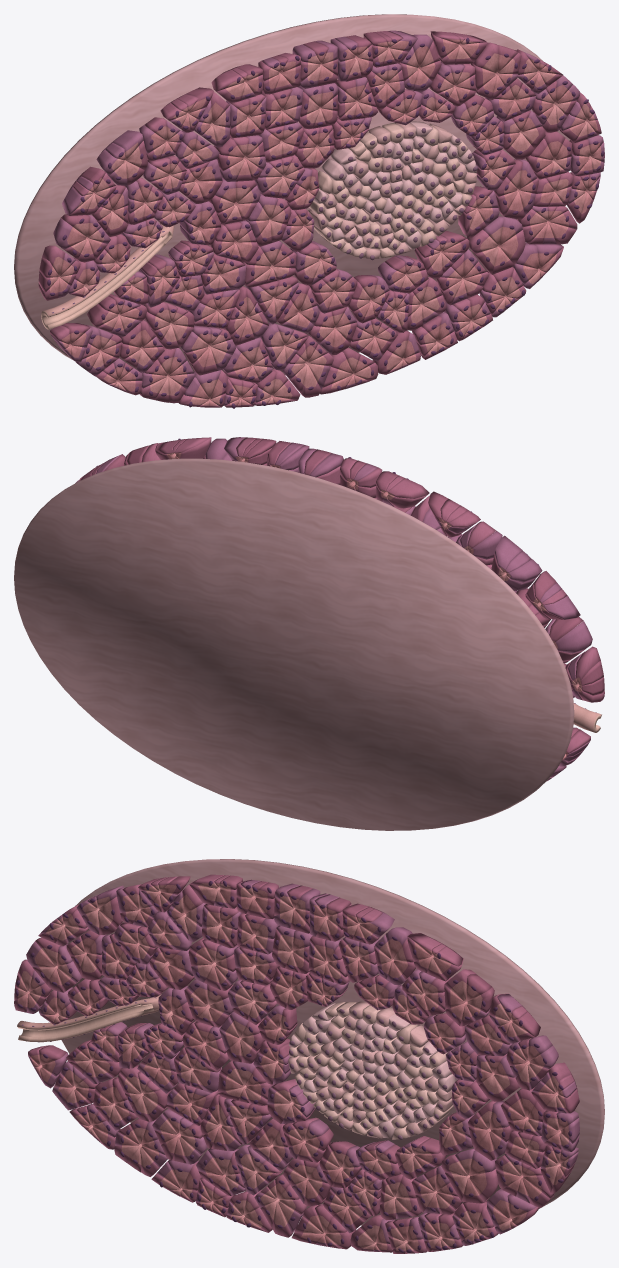
Rendered from micro.glb.
The picture shows the model from 3 angles, top to bottom: view 1: azimuth 30°, elevation 25°; view 2: azimuth 150°, elevation 25°; view 3: azimuth 330°, elevation 25°; orthographic projection.
Visible parts, largest first — view 1: PA_Acini, PA_MicroStroma, PA_Islet, PA_IntercalatedDuct; view 2: PA_MicroStroma, PA_Acini, PA_IntercalatedDuct; view 3: PA_Acini, PA_MicroStroma, PA_Islet, PA_IntercalatedDuct.
Boxes of the visible parts, box(x1,y1,x2,y2) form: PA_Acini: box(38, 30, 604, 408); PA_MicroStroma: box(14, 14, 570, 375); PA_Islet: box(308, 121, 477, 260); PA_IntercalatedDuct: box(41, 223, 174, 329); PA_MicroStroma: box(14, 458, 574, 830); PA_Acini: box(75, 437, 604, 781); PA_IntercalatedDuct: box(573, 703, 601, 732); PA_Acini: box(14, 874, 579, 1253); PA_MicroStroma: box(48, 859, 604, 1225); PA_Islet: box(288, 1001, 455, 1139); PA_IntercalatedDuct: box(17, 994, 161, 1042).
Bounding box in the file's own units: 0.00042 × 0.000248 × 4.58e-05.
Materials: 14 (14 with a texture image).
